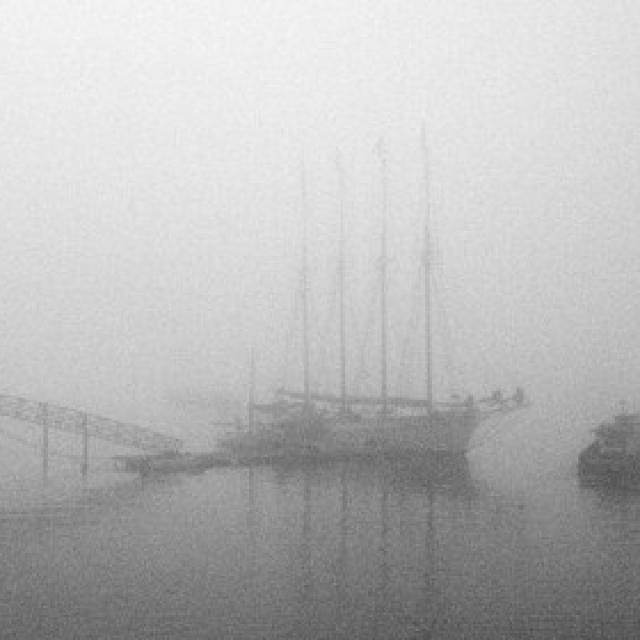fishing boat: (206, 139, 531, 485), (562, 407, 640, 500)
